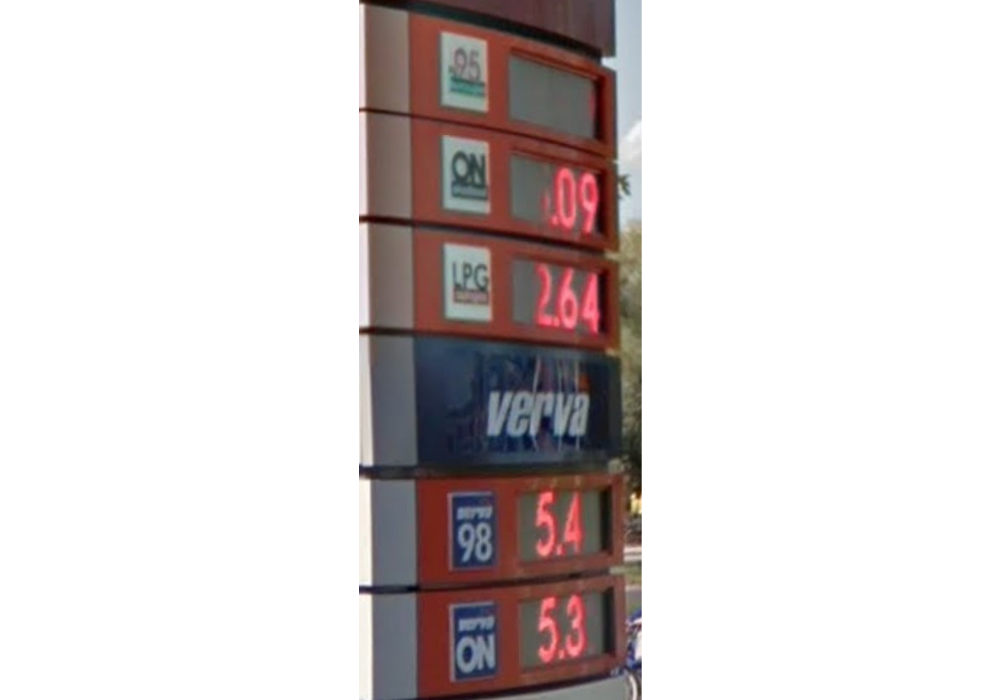LPG: (440, 239, 496, 329)
ON: (447, 596, 500, 689), (440, 125, 492, 215)
PB95: (437, 31, 493, 116)
PB98: (442, 487, 500, 574)
